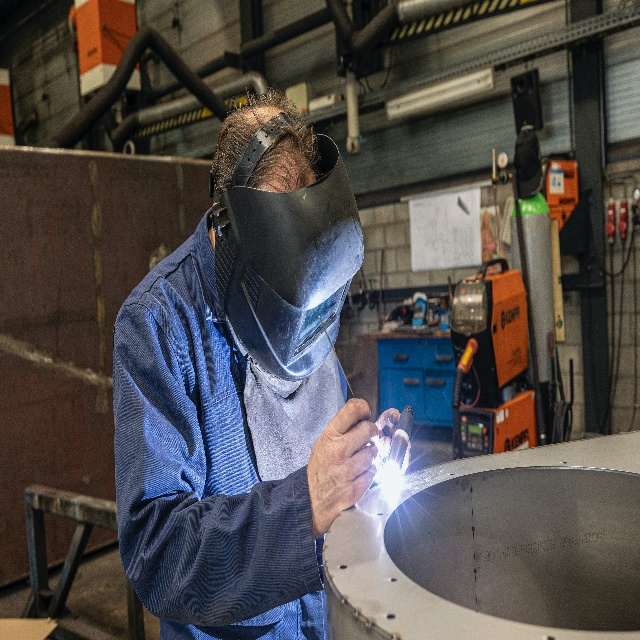Sin_guantes: (305, 398, 380, 532), (374, 405, 412, 478)
